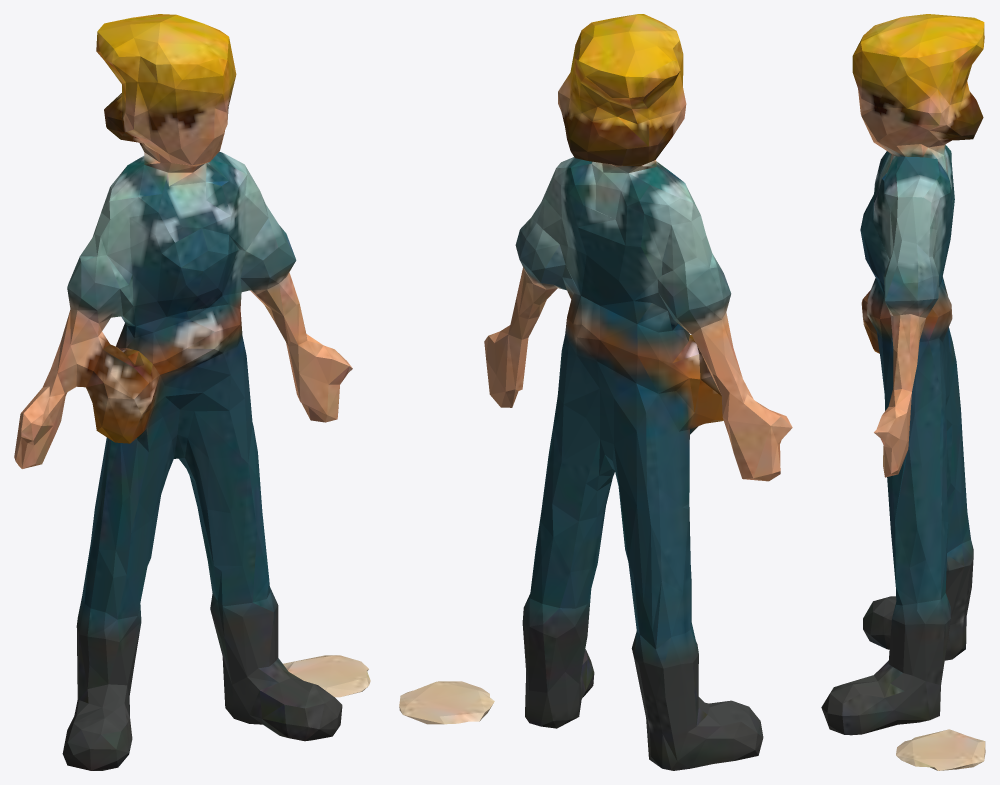
The model's file is habitant-loin.glb.
The picture shows the model from 3 angles, left to right: view 1: azimuth 30°, elevation 25°; view 2: azimuth 150°, elevation 25°; view 3: azimuth 270°, elevation 25°; orthographic projection. The views are drawn at different scales.
Visible parts, largest first — view 1: habitant; view 2: habitant; view 3: habitant.
Part boxes in pixels (x1,y1,x2,y2): habitant: (14,14,370,770); habitant: (399,14,792,770); habitant: (821,14,985,770).
Size of the model in its own units: 0.5447 by 1.01 by 0.228.
1 material, 1 textured.
